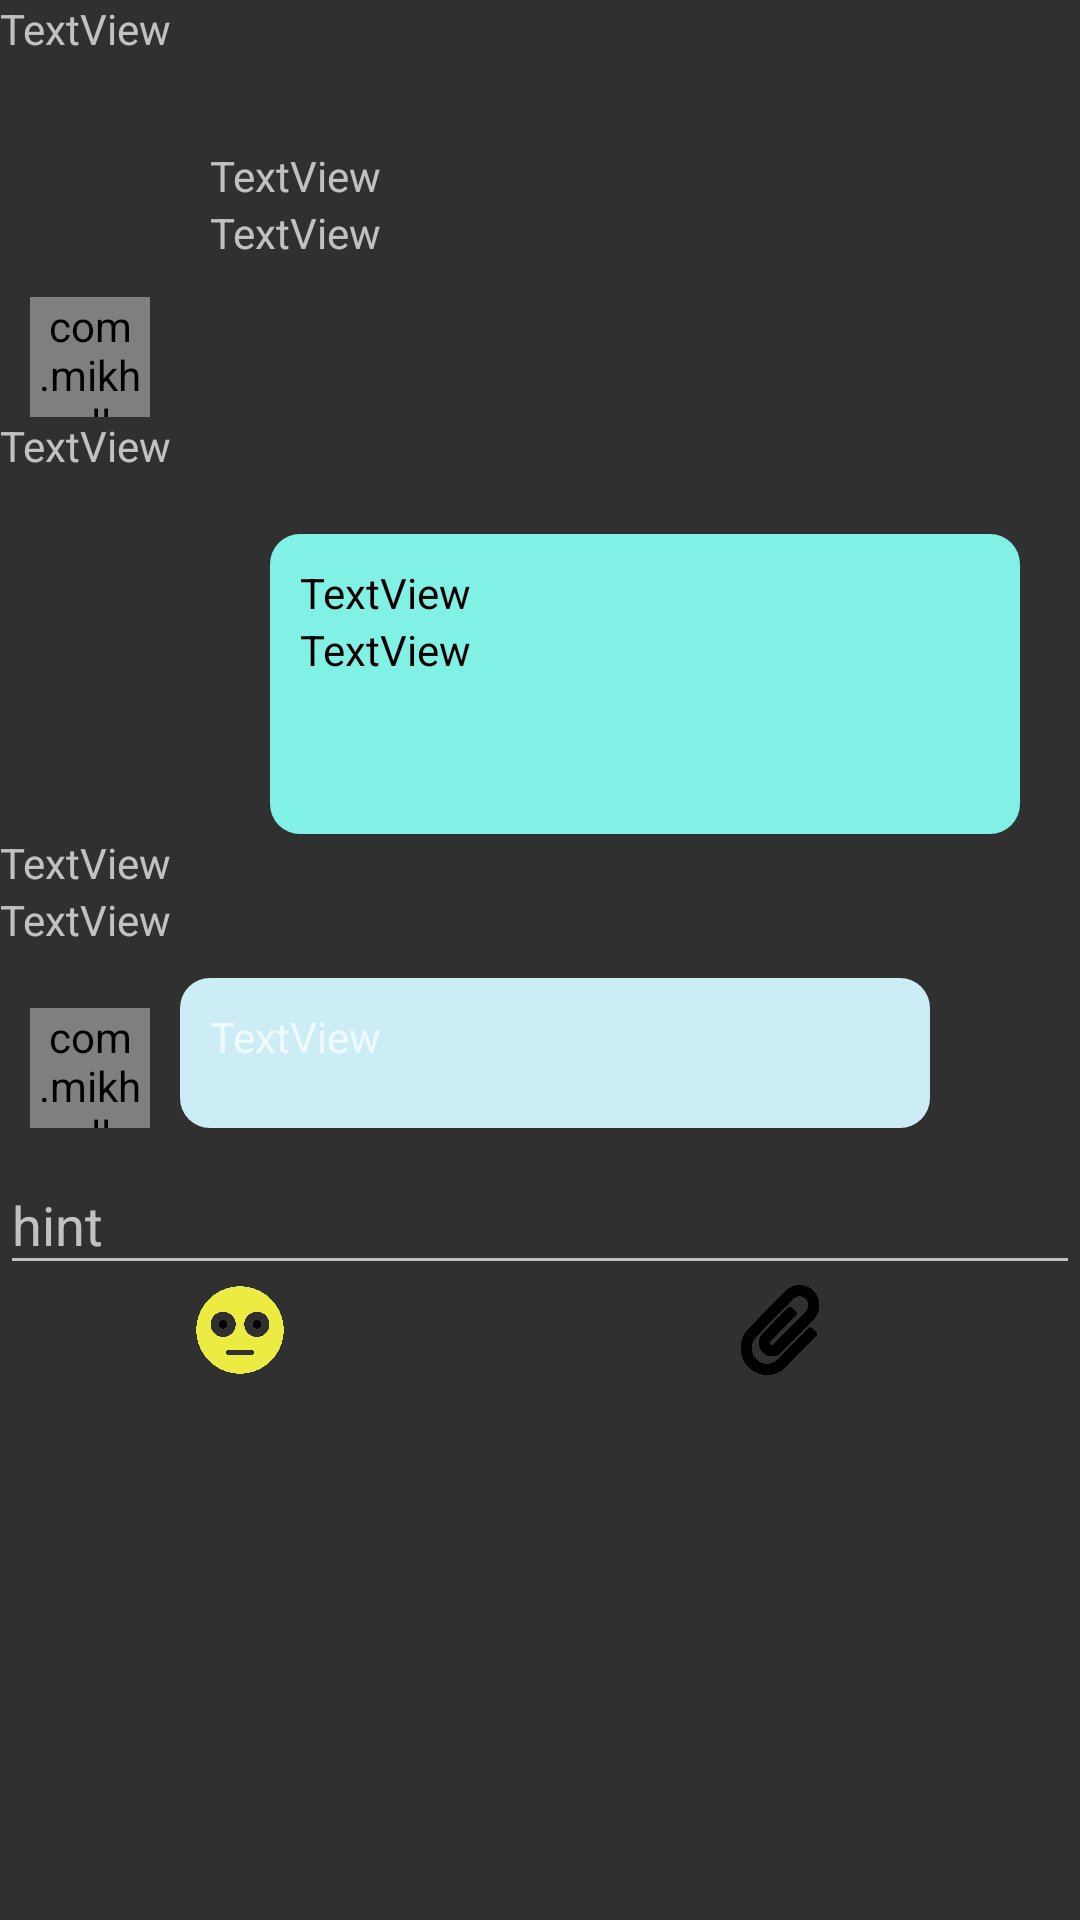

Screen size 1080×1920. Icon name, then its box in pixels as detection(x1, y1, x2, y2):
flushedsolid: detection(196, 1286, 284, 1374)
paperclipsolid: detection(741, 1285, 819, 1375)
